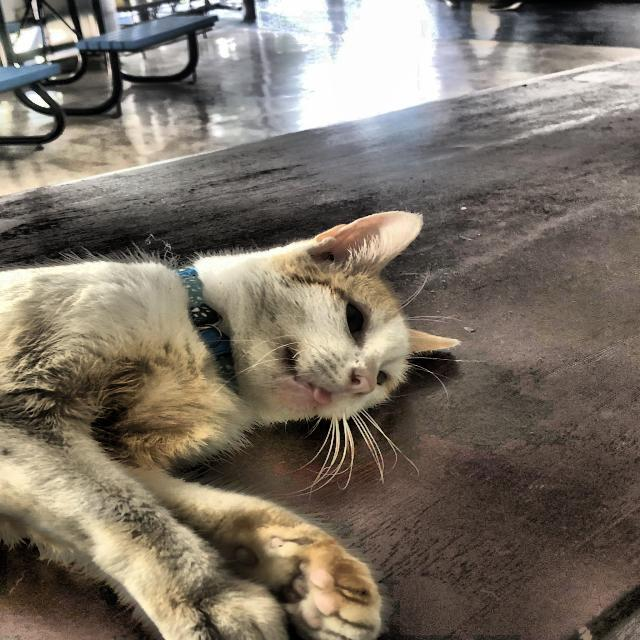Healthy skin: (65, 497, 367, 640), (238, 280, 454, 414)
